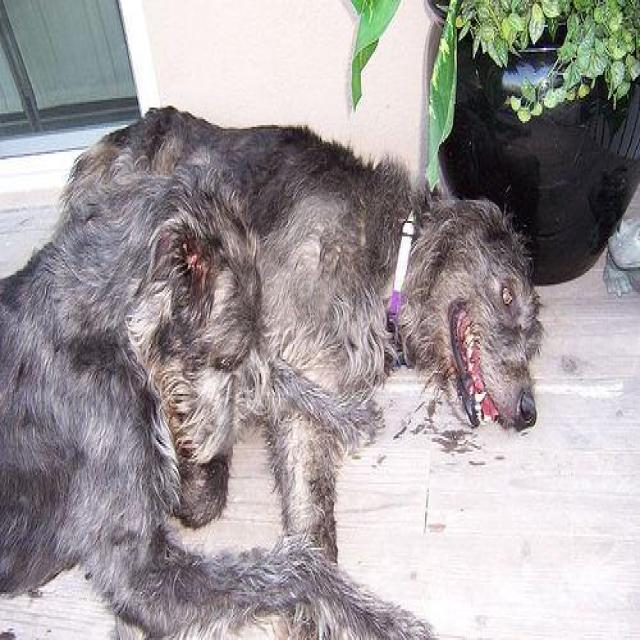irish_wolfhound: (52, 100, 550, 567), (0, 167, 428, 634)
